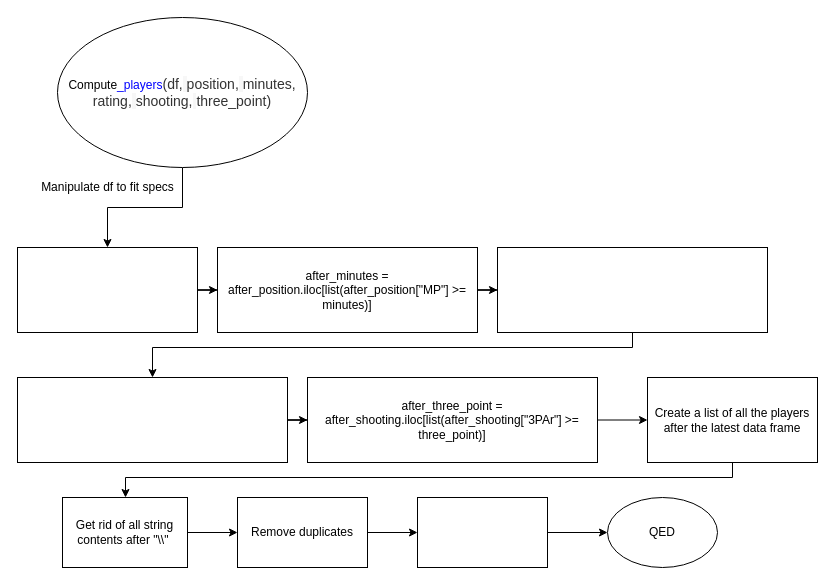
This 835x585 diagram has some shape labels left out. Here are the shapes that lost their labels. From the top down, the centre of each, then its label:
point 107,289: after_position = df.iloc[list(df["Pos"] == position.strip())]
point 632,289: after_rating = after_minutes.iloc[list(after_minutes["PER"] >= rating)]
point 152,419: after_shooting = after_rating.iloc[list(after_rating["TS%"] >= shooting)]
point 482,532: Print the final list
